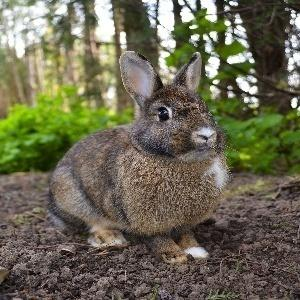rabbit: (44, 51, 231, 265)
